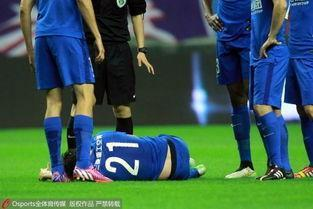Fall-Detected: (47, 122, 205, 179)
